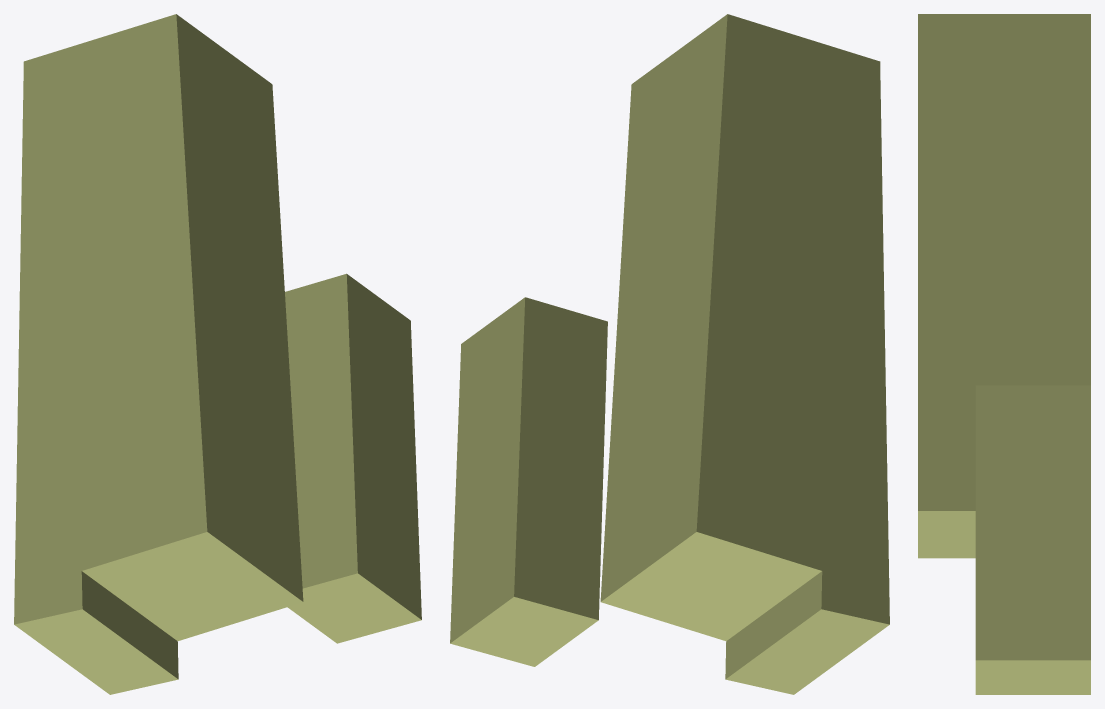
3 views of the same model, side by side, from view 1: azimuth 30°, elevation 25°; view 2: azimuth 150°, elevation 25°; view 3: azimuth 270°, elevation 25° (orthographic). The views are drawn at different scales.
Visible parts, largest first — view 1: 0_1_0_0_2_2_1_3_0; view 2: 0_1_0_0_2_2_1_3_0; view 3: 0_1_0_0_2_2_1_3_0.
Boxes of the visible parts, x1=… form: 0_1_0_0_2_2_1_3_0: x1=14, y1=14, x2=421, y2=694; 0_1_0_0_2_2_1_3_0: x1=450, y1=14, x2=889, y2=694; 0_1_0_0_2_2_1_3_0: x1=918, y1=14, x2=1090, y2=694.
Bounding box in the file's own units: 18.6 × 31.35 × 9.
